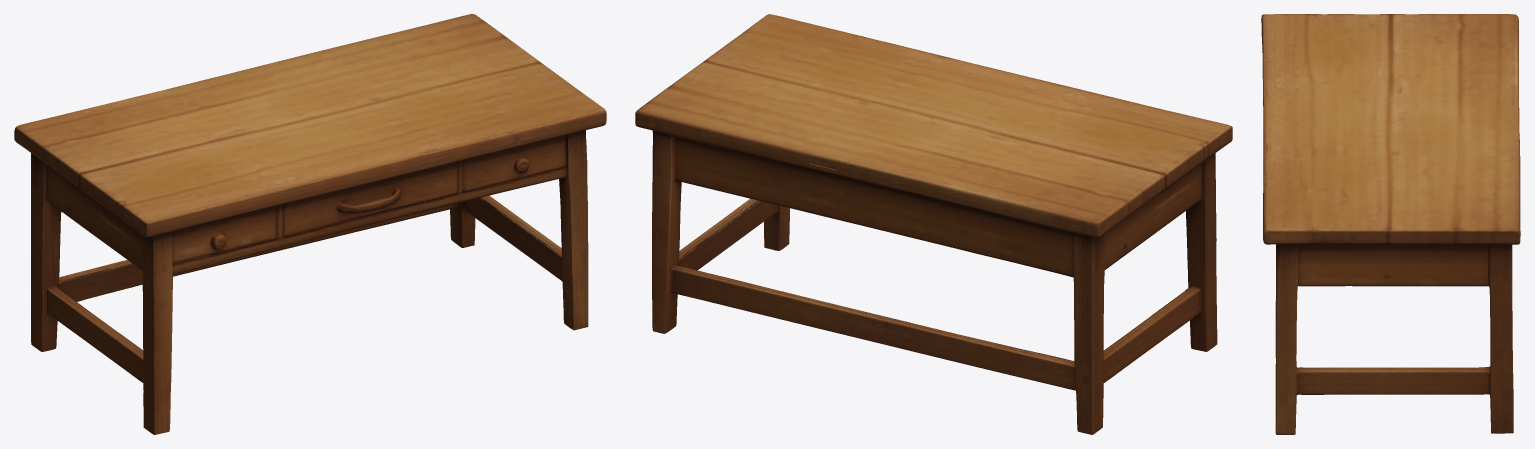
The model's file is CaiBanHoc.glb.
The picture shows the model from 3 angles, left to right: view 1: azimuth 30°, elevation 25°; view 2: azimuth 150°, elevation 25°; view 3: azimuth 270°, elevation 25°; orthographic projection. The views are drawn at different scales.
Visible parts, largest first — view 1: world; view 2: world; view 3: world.
Boxes of the visible parts, x1=… form: world: x1=14, y1=14, x2=606, y2=434; world: x1=635, y1=14, x2=1232, y2=434; world: x1=1261, y1=14, x2=1520, y2=434.
Size of the model in its own units: 1 by 0.454 by 0.505.
Materials: 1 (1 with a texture image).
